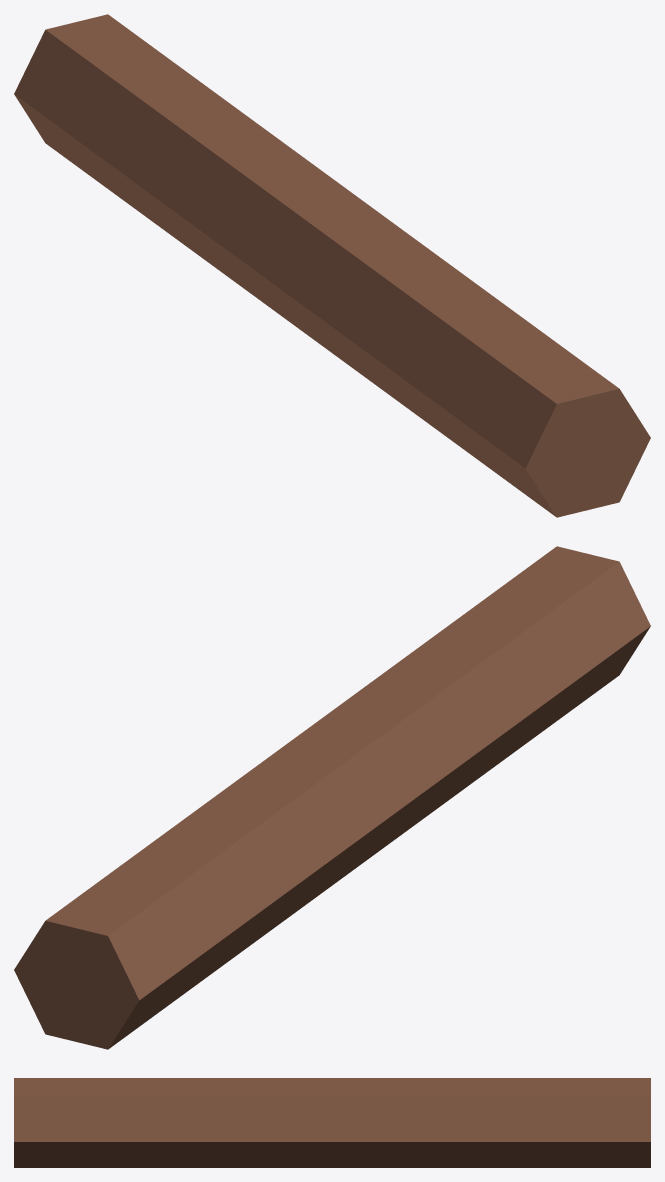
File: BoxBeam.fbx
The picture shows the model from 3 angles, top to bottom: view 1: azimuth 30°, elevation 25°; view 2: azimuth 150°, elevation 25°; view 3: azimuth 270°, elevation 25°; orthographic projection. The views are drawn at different scales.
Visible parts, largest first — view 1: Cylinder.122; view 2: Cylinder.122; view 3: Cylinder.122.
Boxes of the visible parts, left/top/right/bottom form: Cylinder.122: left=14, top=14, right=650, bottom=517; Cylinder.122: left=14, top=546, right=650, bottom=1049; Cylinder.122: left=14, top=1078, right=650, bottom=1167.
Size of the model in its own units: 43.73 by 37.87 by 309.
